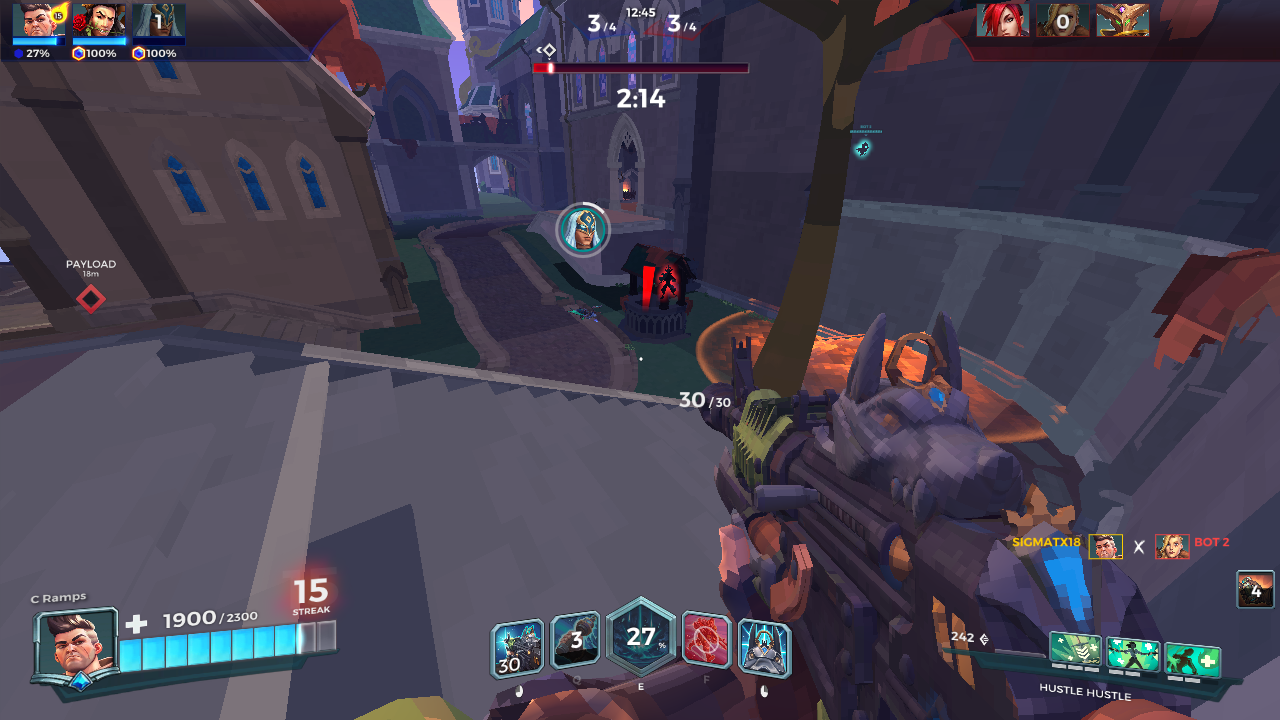model: (658, 261, 675, 294)
